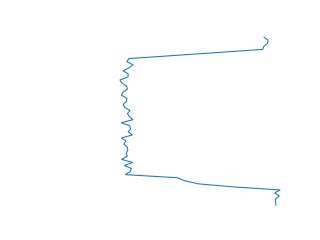distributaryChannelFill: (113, 35, 285, 204)
